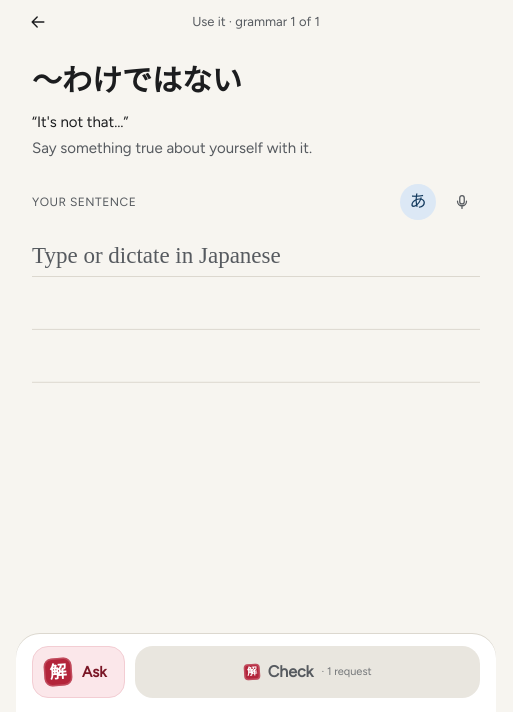
ComposeScreen › opens the tutor on the grammar point from beside Check
The image size is (513, 712).
Click the button with aria-label "Ask the tutor about 〜わけではない": (79, 672) top-left (32, 646), bottom-right (125, 698)
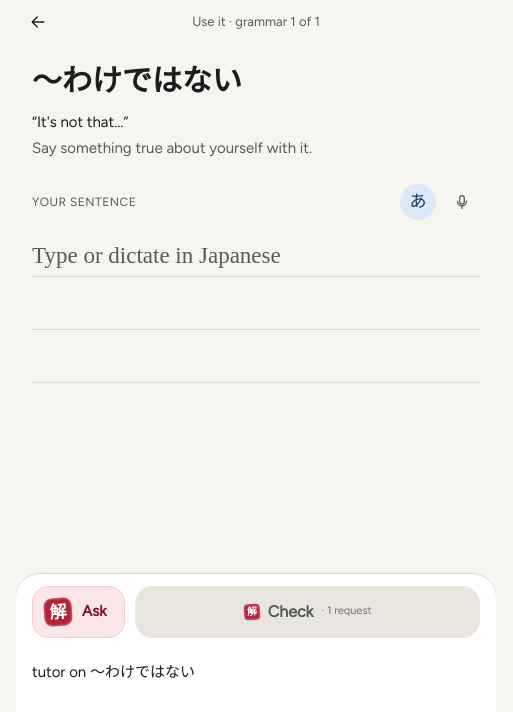
Expected: the text "tutor on 〜わけではない" is shown, top-left (32, 662), bottom-right (195, 680)
